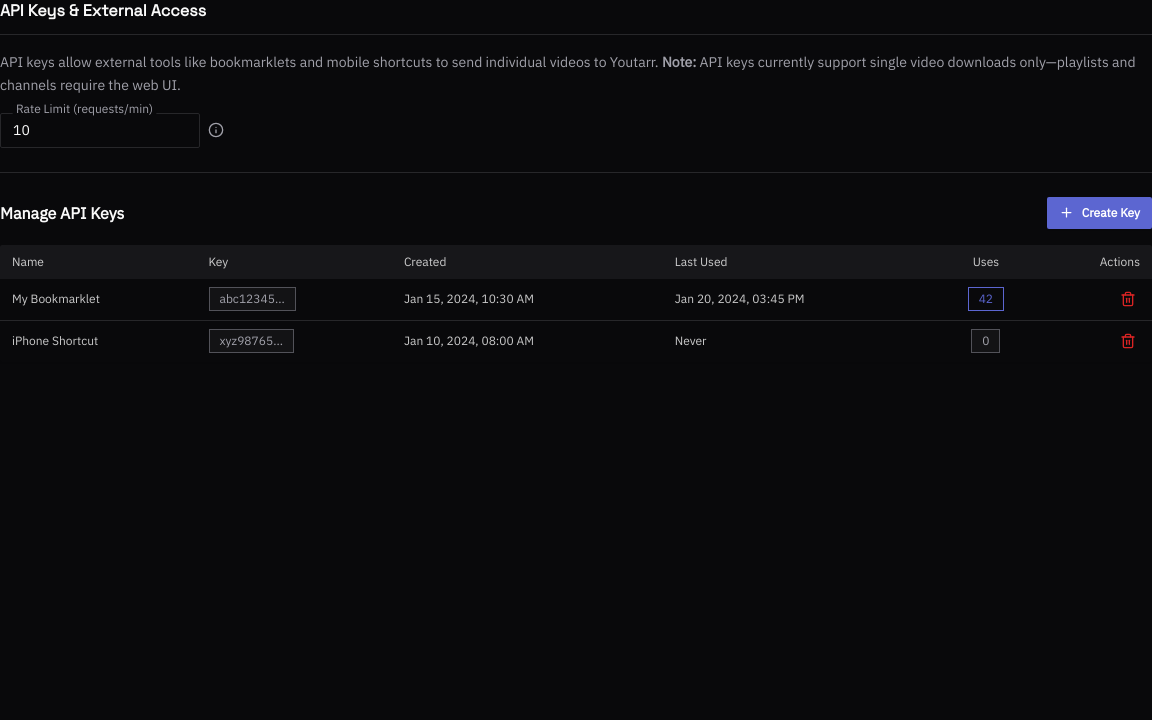
Test: ApiKeysSection Component › Delete API Key › closes confirmation dialog when Cancel is clicked
Check: the text "My Bookmarklet" is shown, box top-left (0, 278), bottom-right (196, 320)
Click the button named "Delete" in the row of "My Bookmarklet" at (1128, 298), box top-left (1116, 286), bottom-right (1140, 310)
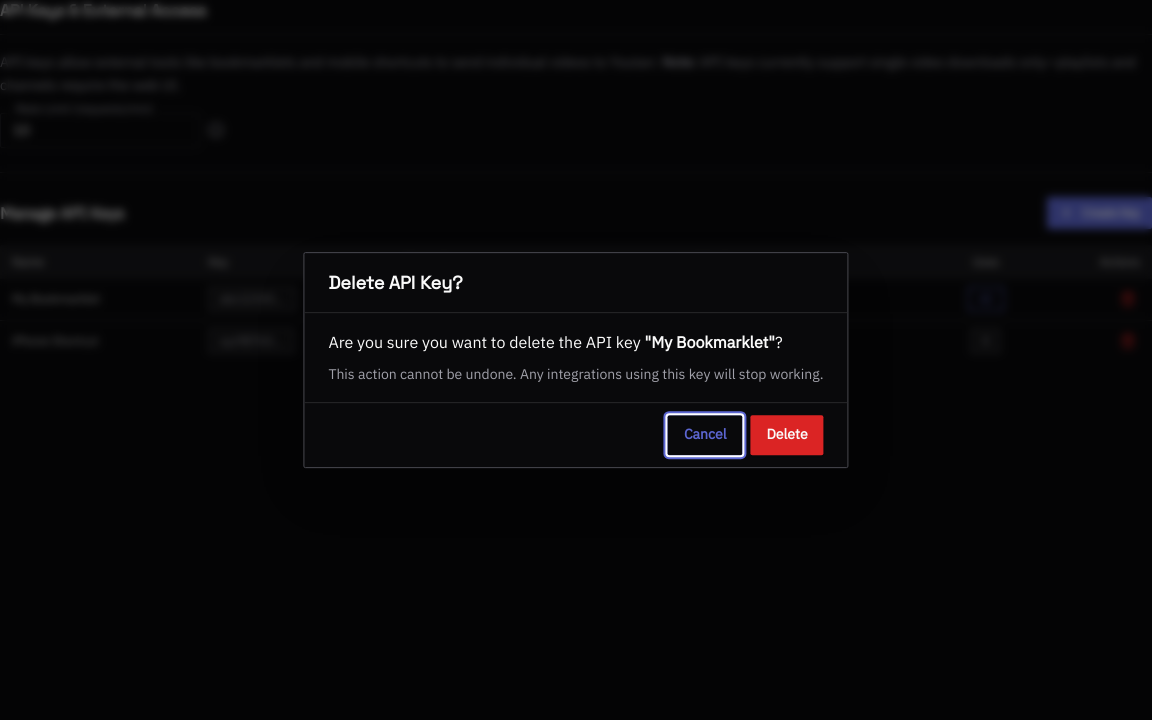
Click the button "Cancel" at (705, 435), box top-left (668, 415), bottom-right (742, 455)
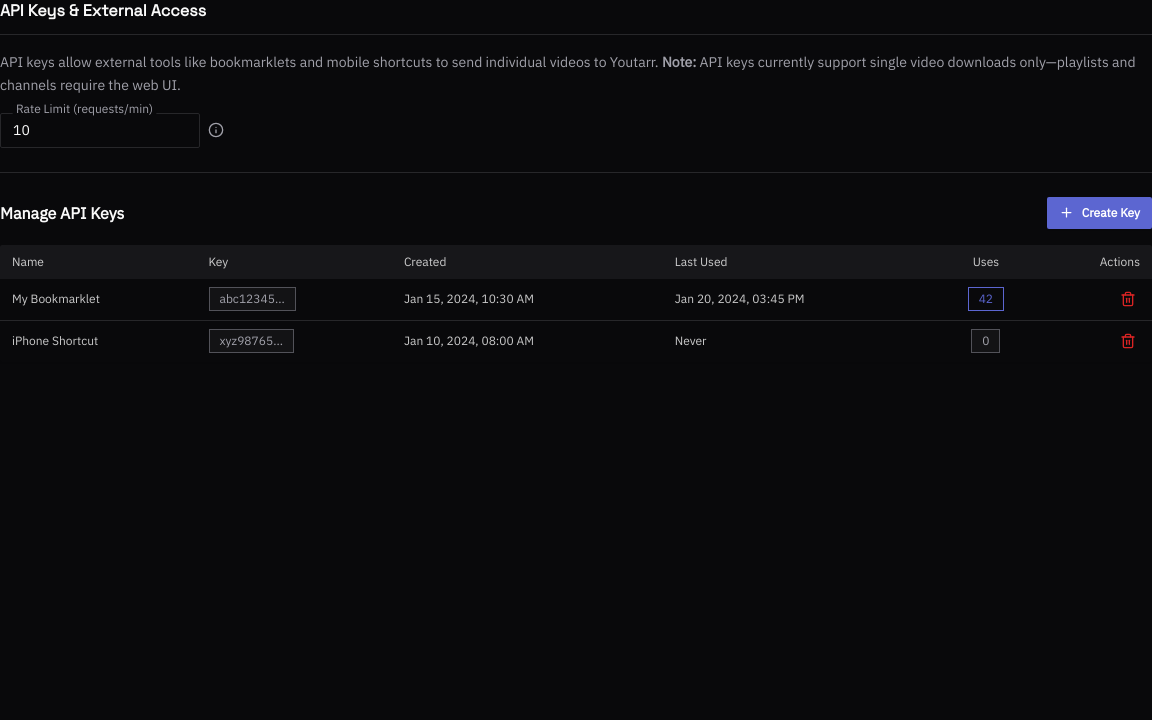
Check: the text "Delete API Key?" is gone
